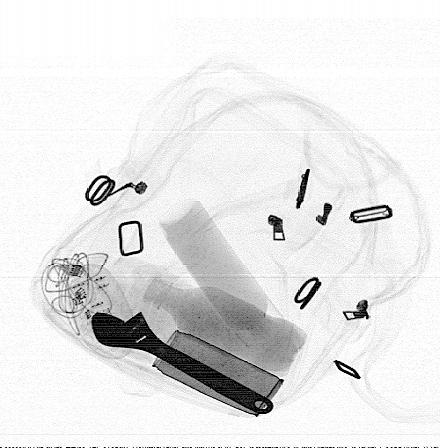Wrench: (89, 310, 277, 416)
